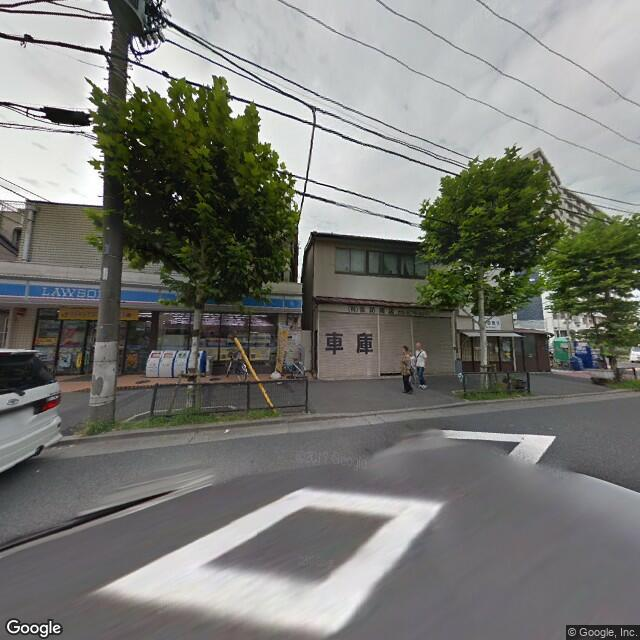lawson: (1, 279, 304, 317)
